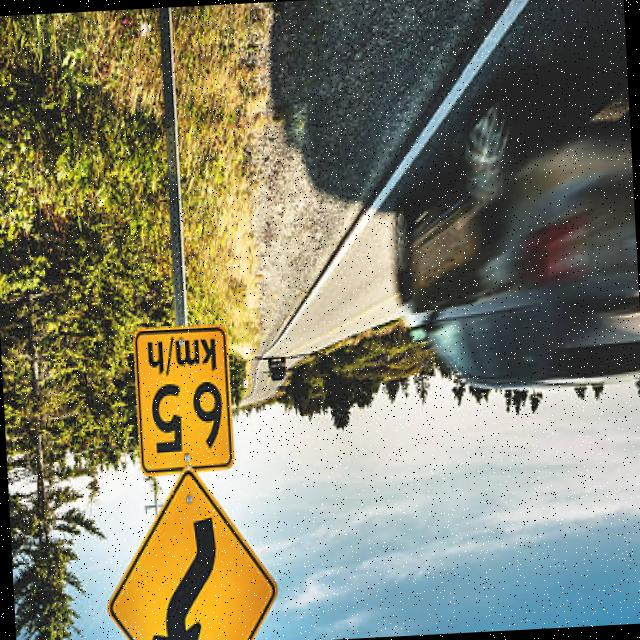left_sharp_curve: (100, 466, 281, 640)
